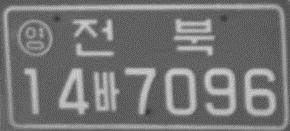0: (163, 66, 197, 116)
1: (17, 66, 51, 115)
4: (57, 68, 89, 114)
6: (242, 66, 277, 118)
7: (124, 66, 157, 115)
9: (202, 66, 237, 117)
바: (92, 69, 120, 113)
영: (15, 19, 53, 57)
전북_D: (72, 16, 214, 57)
